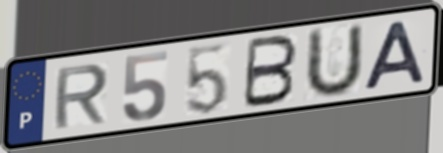5: (120, 48, 171, 124), (184, 40, 232, 116)
A: (361, 18, 429, 92)
B: (239, 33, 301, 111)
R: (51, 61, 112, 132)
U: (301, 20, 365, 103)
